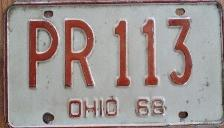1: (138, 17, 165, 88), (111, 18, 136, 89)
3: (165, 16, 197, 87)
P: (26, 19, 62, 90)
R: (61, 18, 98, 89)
